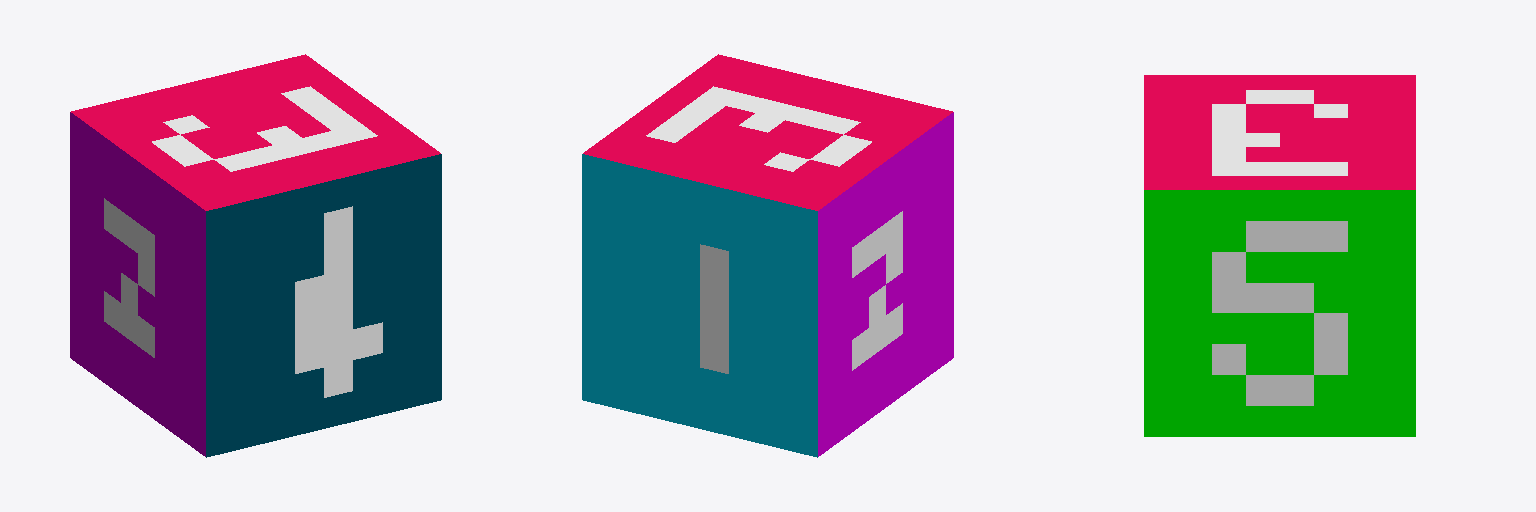
3 views of the same model, side by side, from view 1: azimuth 30°, elevation 25°; view 2: azimuth 150°, elevation 25°; view 3: azimuth 270°, elevation 25° (orthographic).
Parts seen in each view (by area): view 1: Cube.001; view 2: Cube.001; view 3: Cube.001.
Boxes of the visible parts, x1,y1,x2,y2 form: Cube.001: [70, 54, 441, 457]; Cube.001: [582, 54, 953, 457]; Cube.001: [1144, 75, 1415, 436].
Bounding box in the file's own units: 2 × 2 × 2.
Materials: 1 (1 with a texture image).